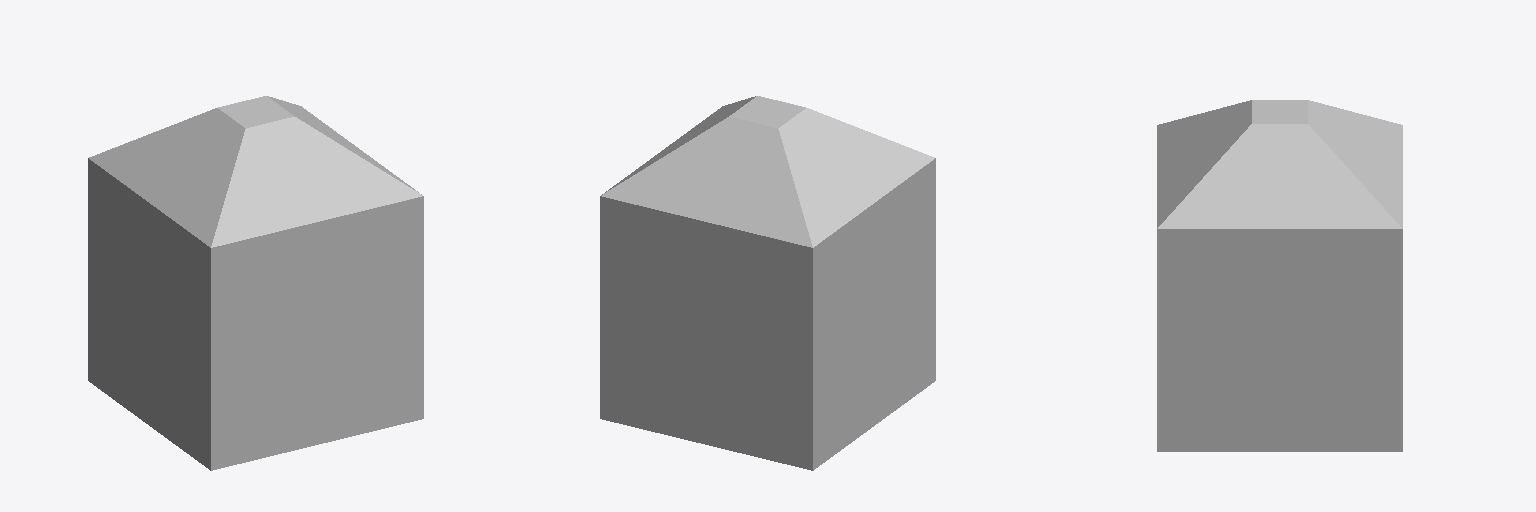
The model's file is hut.obj.
3 views of the same model, side by side, from view 1: azimuth 30°, elevation 25°; view 2: azimuth 150°, elevation 25°; view 3: azimuth 270°, elevation 25° (orthographic).
Visible parts, largest first — view 1: Cube; view 2: Cube; view 3: Cube.
Boxes of the visible parts, box(x1,y1,x2,y2) form: Cube: box(88, 96, 423, 470); Cube: box(600, 96, 935, 470); Cube: box(1157, 100, 1402, 451).
Bounding box in the file's own units: 2 × 2.58 × 2.